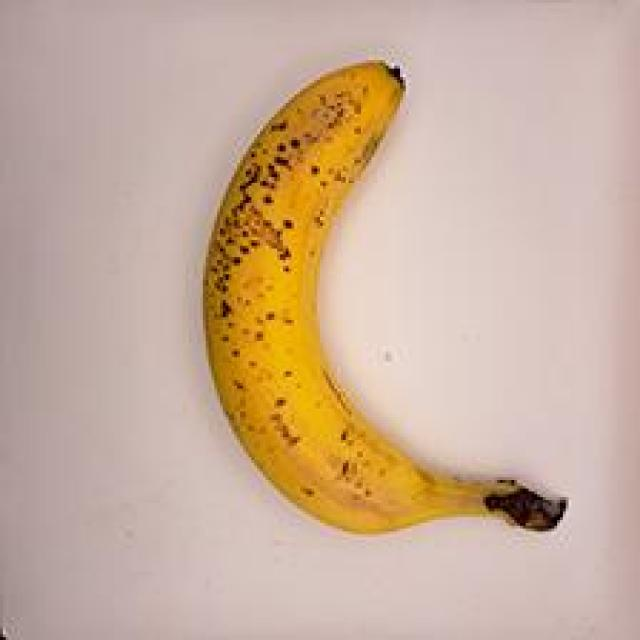Overripe: (186, 35, 586, 554)
